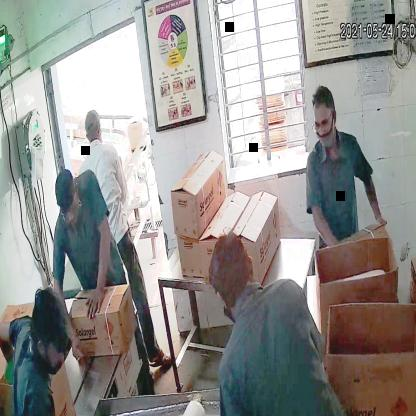goggles: (312, 111, 334, 135)
